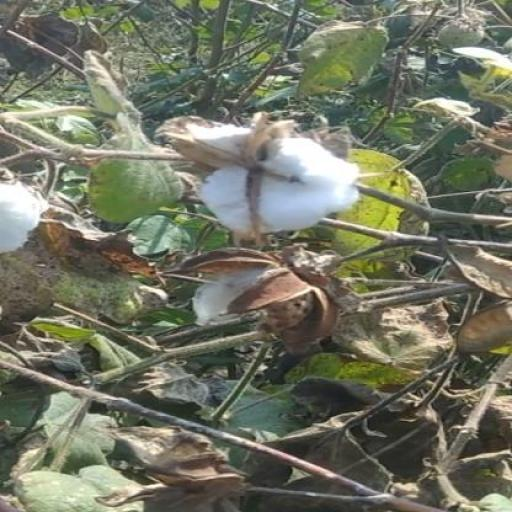cotton_ready: (150, 112, 367, 240)
